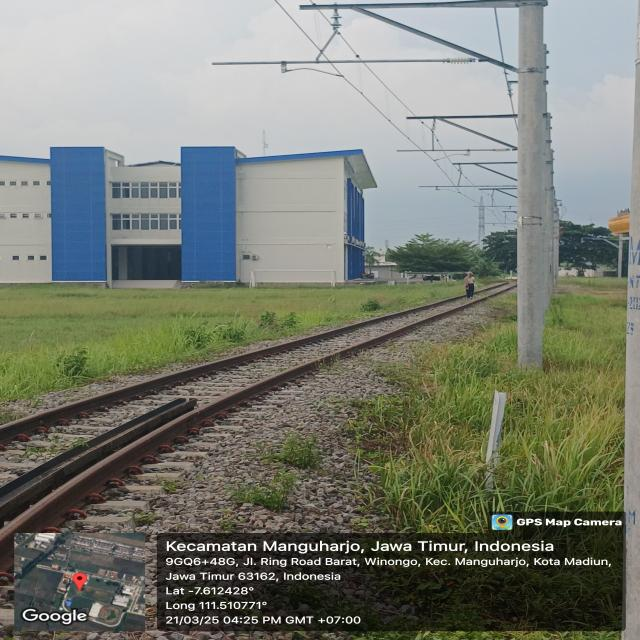rail-detection: (0, 283, 516, 569)
